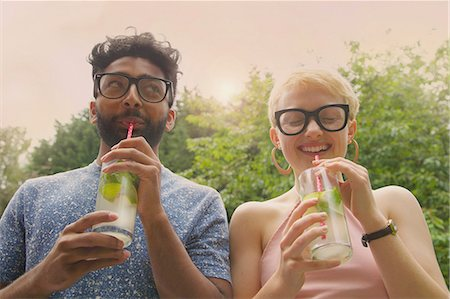drinking: (239, 52, 399, 294), (43, 31, 198, 237)
